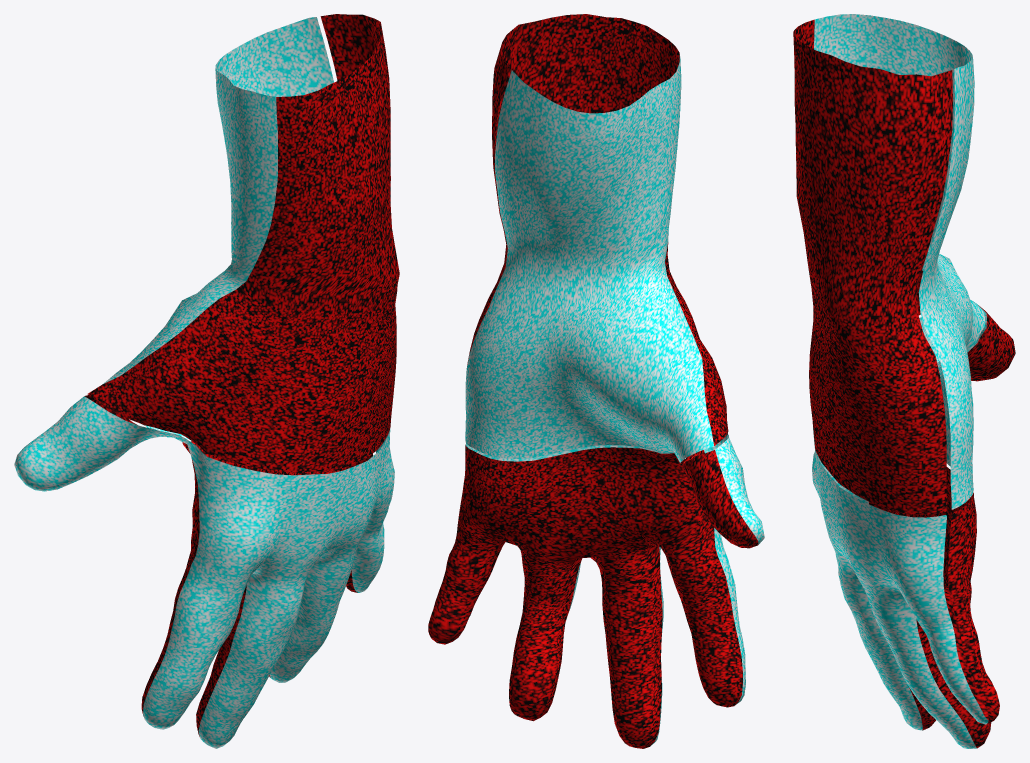
File: SM_Simon_P2_BigHand_02_HJS.fbx
3 renders of one model, left to right at view 1: azimuth 30°, elevation 25°; view 2: azimuth 150°, elevation 25°; view 3: azimuth 270°, elevation 25°, orthographic. The views are drawn at different scales.
Visible parts, largest first — view 1: SM_Simon_P2_BigHand_02_HJS; view 2: SM_Simon_P2_BigHand_02_HJS; view 3: SM_Simon_P2_BigHand_02_HJS.
Boxes of the visible parts, x1=… form: SM_Simon_P2_BigHand_02_HJS: x1=14, y1=14, x2=399, y2=748; SM_Simon_P2_BigHand_02_HJS: x1=428, y1=14, x2=764, y2=748; SM_Simon_P2_BigHand_02_HJS: x1=793, y1=14, x2=1015, y2=748.
Size of the model in its own units: 331 by 637 by 175.
